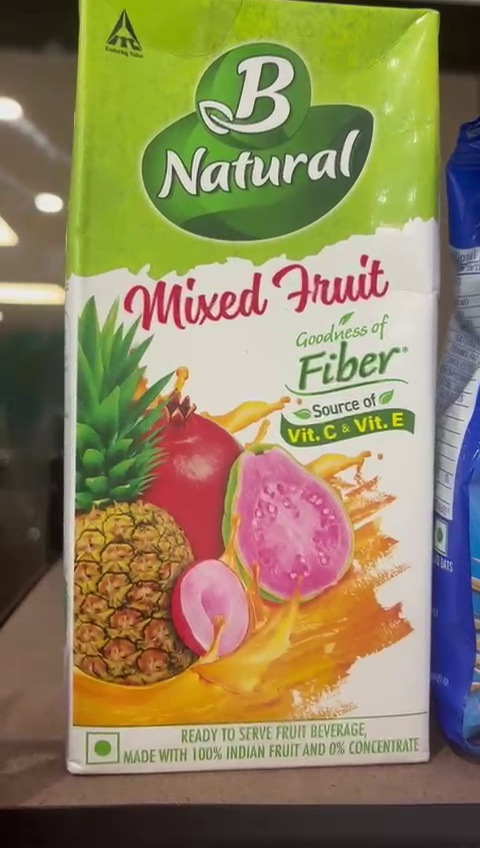Mixed Fruit: (69, 0, 441, 770)
